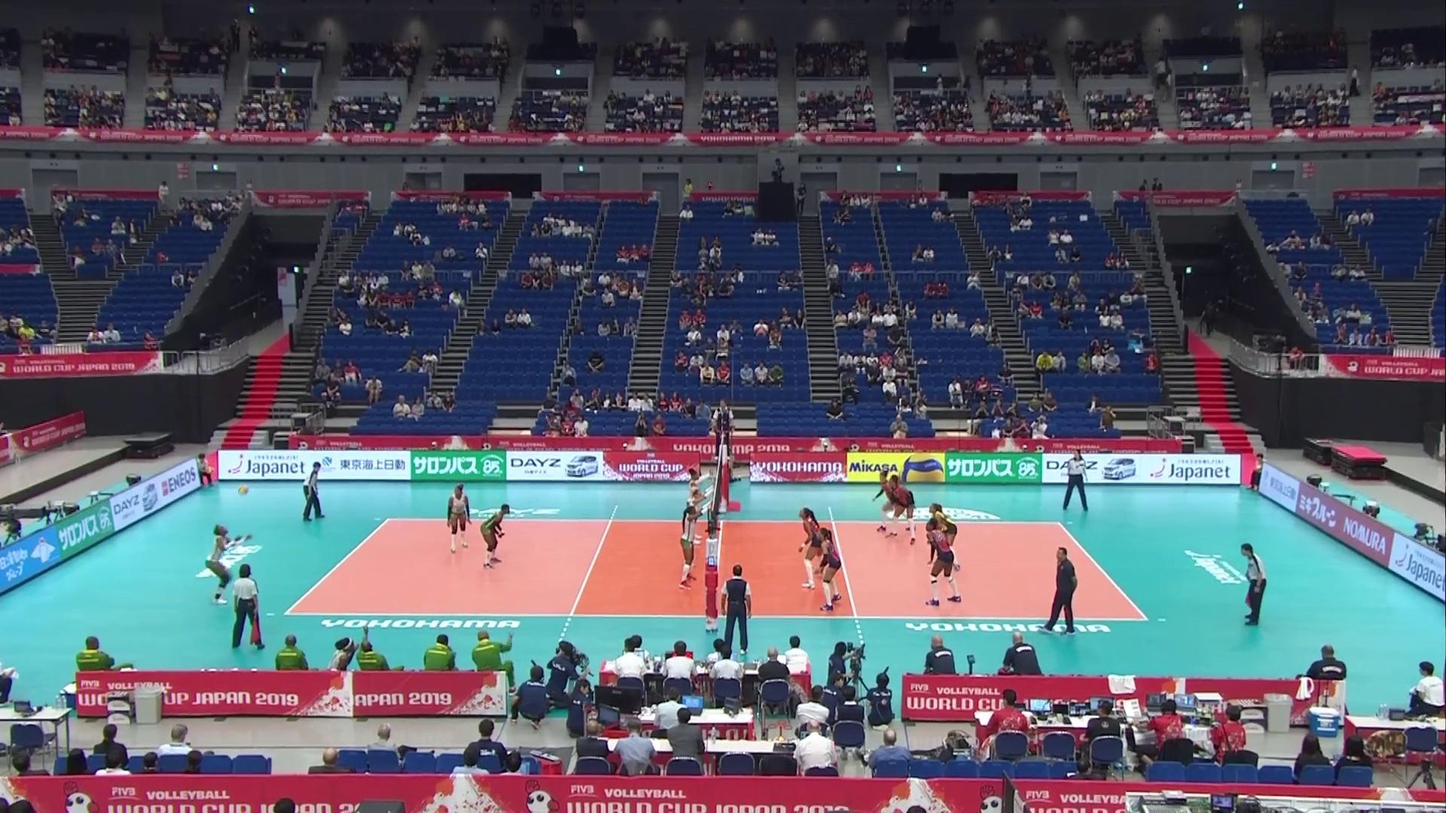player: (205, 524, 250, 604), (925, 520, 963, 607), (680, 501, 710, 589), (687, 484, 717, 572), (874, 471, 916, 532), (800, 507, 830, 590), (816, 528, 844, 612), (928, 503, 960, 571), (479, 504, 511, 567), (888, 475, 916, 545), (688, 467, 712, 544), (446, 485, 471, 554)
refree: (225, 564, 266, 652), (721, 565, 752, 653), (1241, 543, 1266, 626), (1063, 449, 1088, 511), (300, 462, 325, 520), (712, 399, 733, 459)
